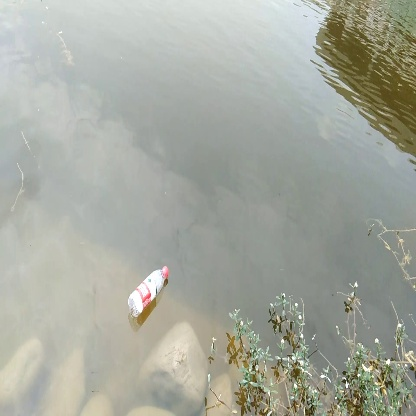bottle: (126, 264, 171, 325)
